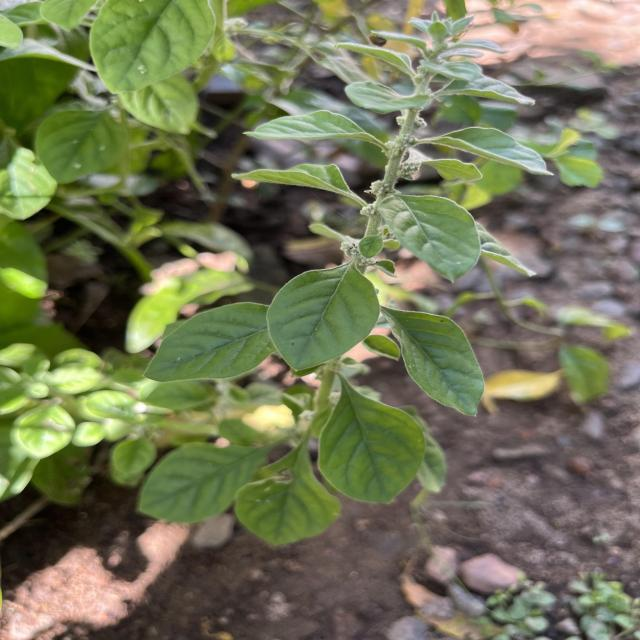Aerva lanata: (314, 379, 428, 506), (264, 260, 382, 374), (138, 300, 280, 385), (382, 306, 488, 419)
